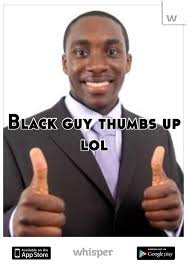thumbs_up: (129, 137, 181, 229)
